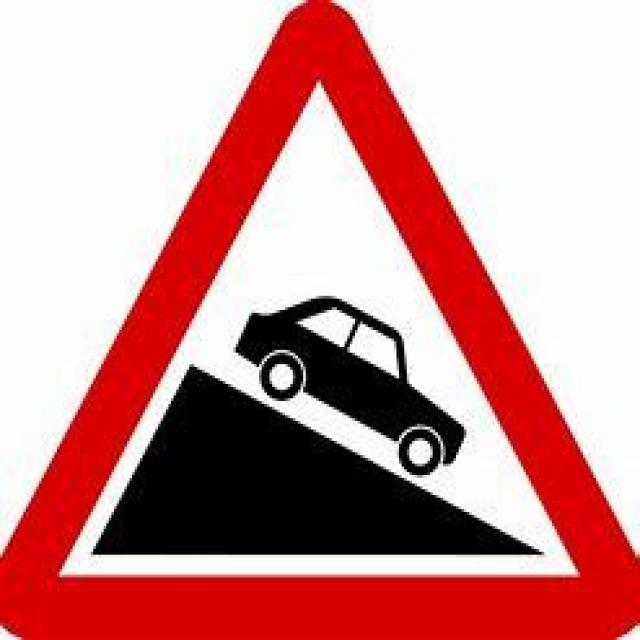steep descent: (19, 22, 623, 617)
